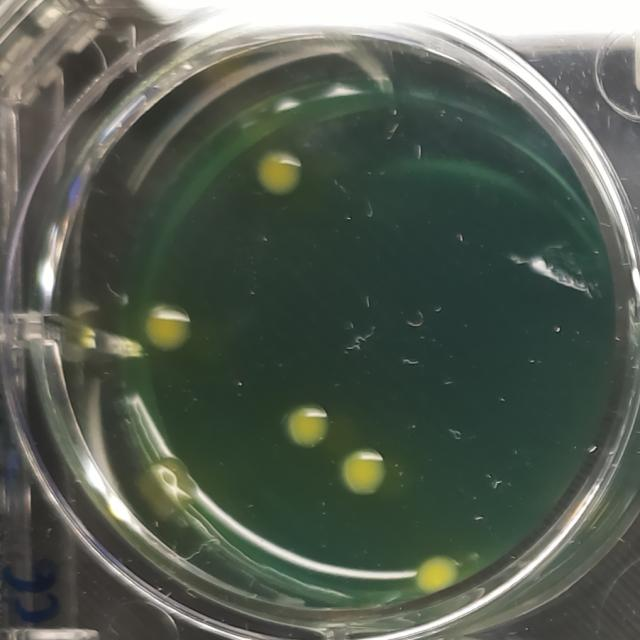vibrio: (253, 142, 309, 208), (133, 299, 195, 357), (410, 547, 468, 602), (342, 445, 392, 497), (281, 402, 332, 449)
